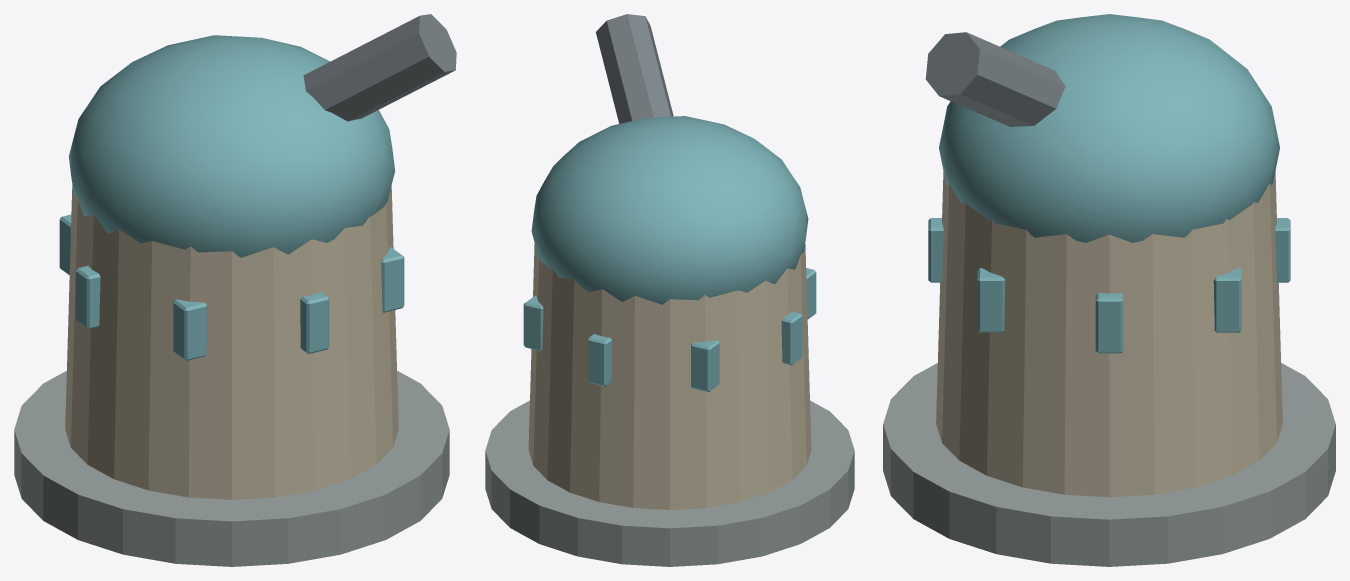
File: observatory.glb
3 views of the same model, side by side, from view 1: azimuth 30°, elevation 25°; view 2: azimuth 150°, elevation 25°; view 3: azimuth 270°, elevation 25° (orthographic). The views are drawn at different scales.
Parts seen in each view (by area): view 1: Model; view 2: Model; view 3: Model.
Part boxes in pixels (x1=…): Model: x1=14, y1=14, x2=456, y2=566; Model: x1=485, y1=14, x2=854, y2=566; Model: x1=883, y1=14, x2=1335, y2=566.
Size of the model in its own units: 2.6 by 3.17 by 2.6.
